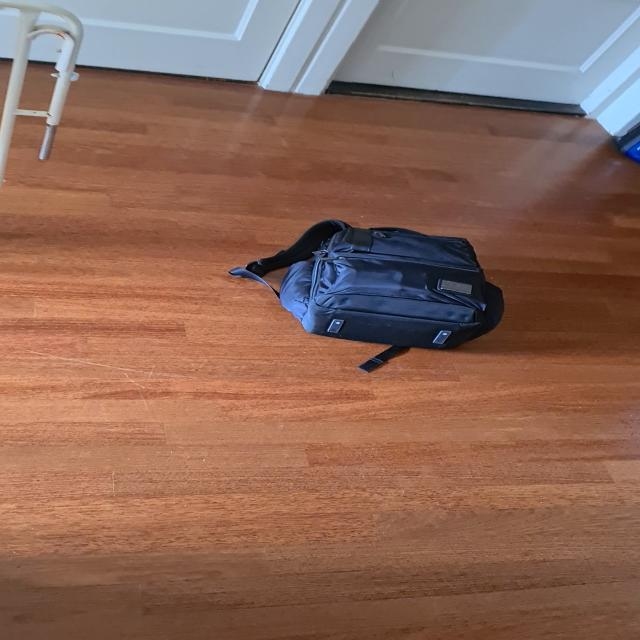backpack: (243, 212, 519, 356)
